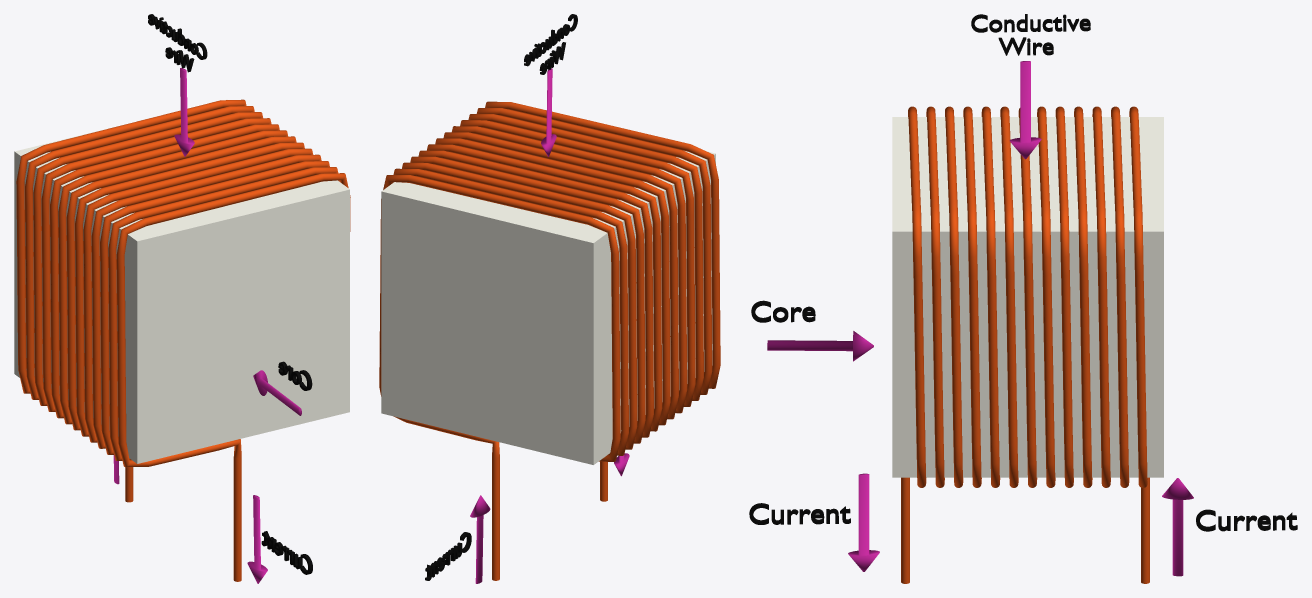
File: Electrict Coil1.gltf
3 views of the same model, side by side, from view 1: azimuth 30°, elevation 25°; view 2: azimuth 150°, elevation 25°; view 3: azimuth 270°, elevation 25° (orthographic). The views are drawn at different scales.
Parts seen in each view (by area): view 1: Cube, Spiral, Text.004, Cylinder.085, Cylinder.003, Text.002, Cylinder.002, Text.003; view 2: Cube, Spiral, Text.004, Cylinder.001, Text.001, Cylinder.003; view 3: Cube, Spiral, Text.004, Cylinder.001, Cylinder.085, Cylinder.002, Cylinder.003, Text.001, Text.002, Text.003.
Part boxes in pixels (x1,y1,x2,y2): Cube: [14, 99, 349, 463]; Spiral: [16, 99, 350, 581]; Text.004: [148, 14, 207, 72]; Cylinder.085: [247, 495, 267, 583]; Cylinder.003: [174, 68, 194, 156]; Text.002: [261, 531, 312, 574]; Cylinder.002: [253, 370, 301, 415]; Text.003: [278, 361, 312, 390]; Cube: [381, 151, 715, 464]; Spiral: [379, 101, 720, 580]; Text.004: [524, 14, 577, 74]; Cylinder.001: [470, 495, 490, 583]; Text.001: [425, 532, 471, 580]; Cylinder.003: [541, 68, 556, 156]; Cube: [892, 117, 1163, 477]; Spiral: [901, 106, 1149, 583]; Text.004: [971, 14, 1090, 55]; Cylinder.001: [1162, 478, 1193, 576]; Cylinder.085: [848, 473, 879, 571]; Cylinder.002: [767, 331, 873, 361]; Cylinder.003: [1009, 61, 1041, 159]; Text.001: [1196, 509, 1297, 531]; Text.002: [749, 503, 850, 524]; Text.003: [751, 300, 815, 322].
Bounding box in the file's own units: 1.39 × 2.9 × 2.54.
